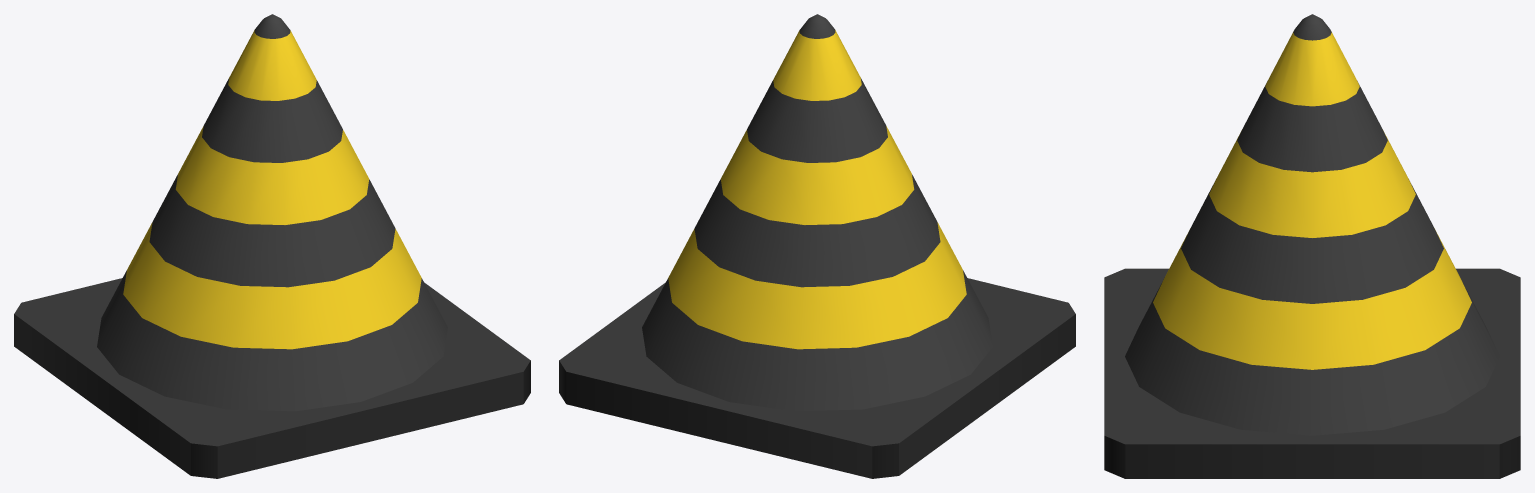
Rendered from D_FBX_13_Gashi_B.fbx.
3 renders of one model, left to right at view 1: azimuth 30°, elevation 25°; view 2: azimuth 150°, elevation 25°; view 3: azimuth 270°, elevation 25°, orthographic. The views are drawn at different scales.
Parts seen in each view (by area): view 1: D_FBX_13_Gashi_B; view 2: D_FBX_13_Gashi_B; view 3: D_FBX_13_Gashi_B.
Boxes of the visible parts, box(x1,y1,x2,y2) form: D_FBX_13_Gashi_B: box(14, 14, 530, 478); D_FBX_13_Gashi_B: box(559, 14, 1075, 478); D_FBX_13_Gashi_B: box(1104, 14, 1520, 478).
Bounding box in the file's own units: 100 × 100 × 100.
